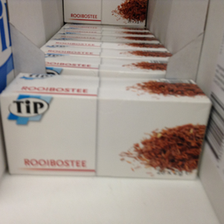tea: (1, 71, 211, 180)
